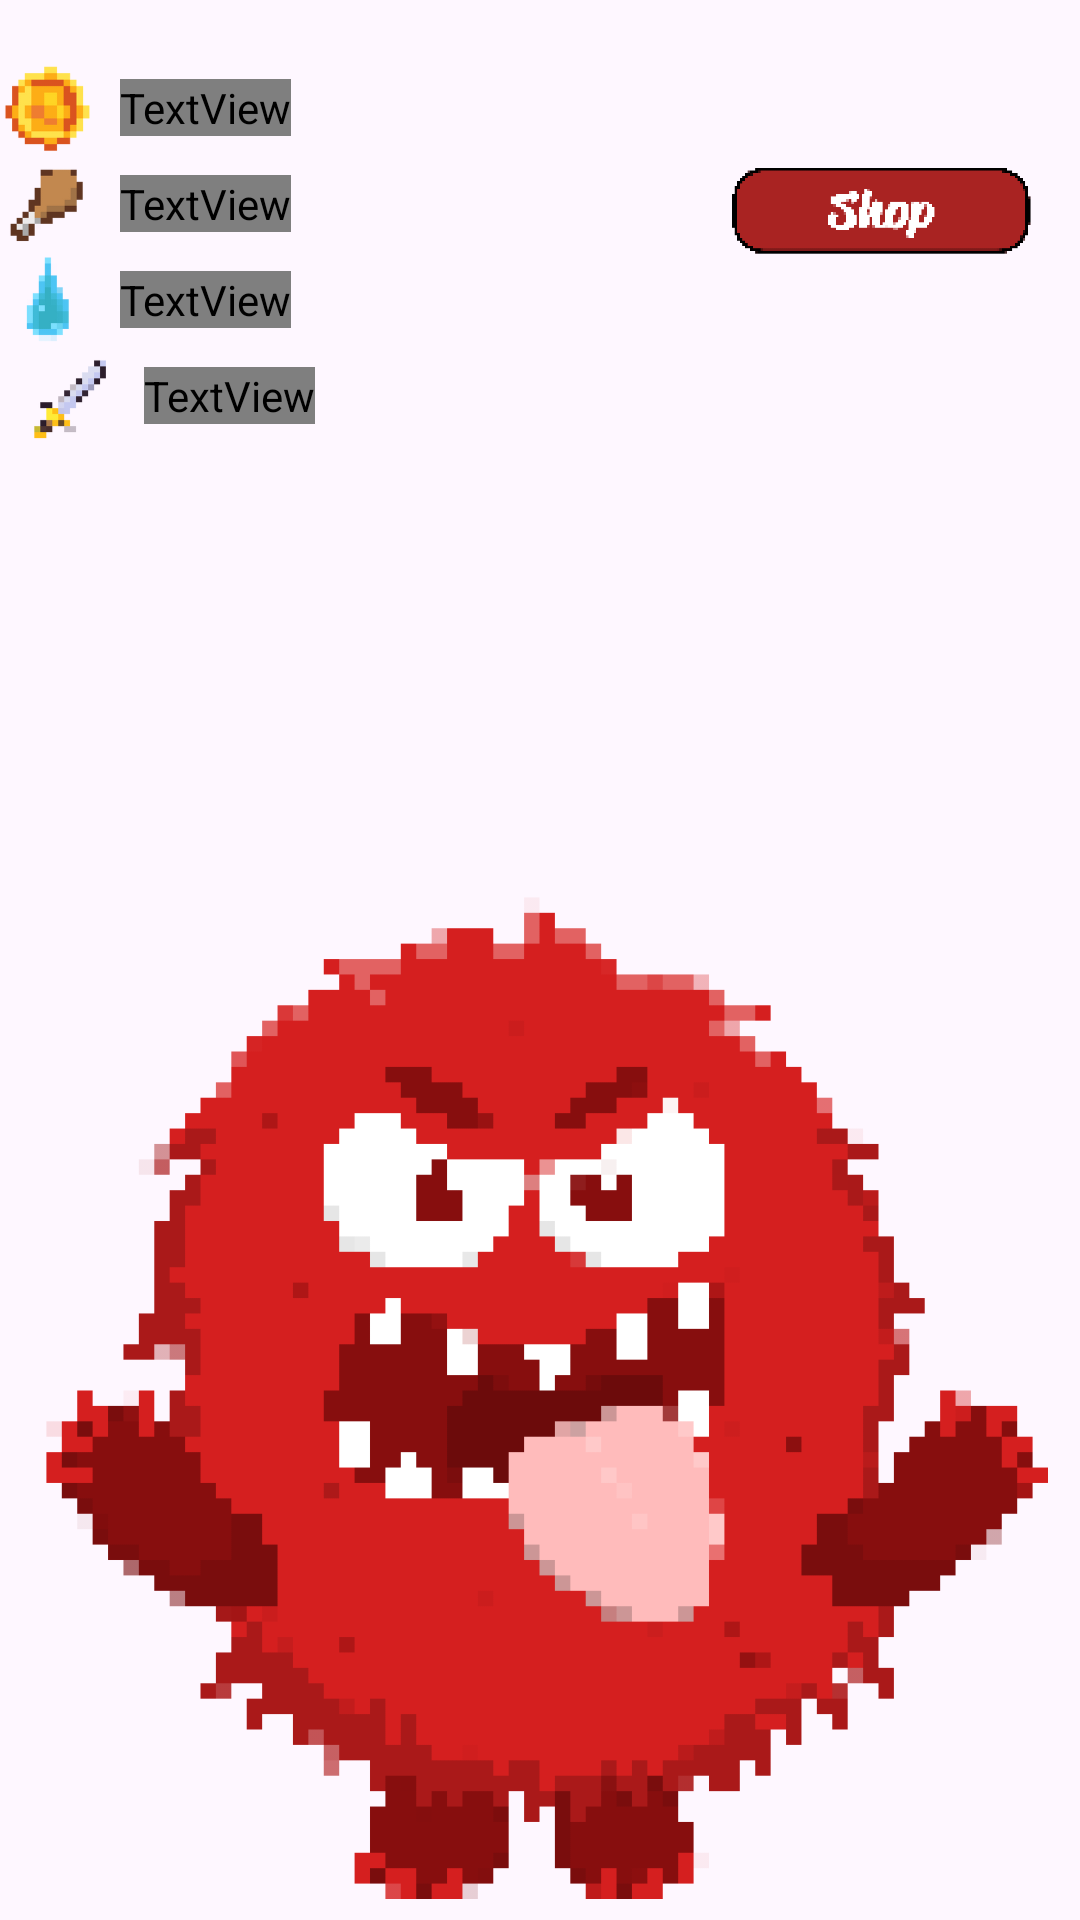

Icons on this 1080 × 1920 Android screen, each with its box as {"x1": x1, "y1": y1, "x2": x2, "y2": y2}:
coin: {"x1": 5, "y1": 66, "x2": 90, "y2": 151}
hunger: {"x1": 10, "y1": 169, "x2": 83, "y2": 241}
thirst: {"x1": 26, "y1": 257, "x2": 69, "y2": 341}
weapon: {"x1": 34, "y1": 360, "x2": 106, "y2": 439}
